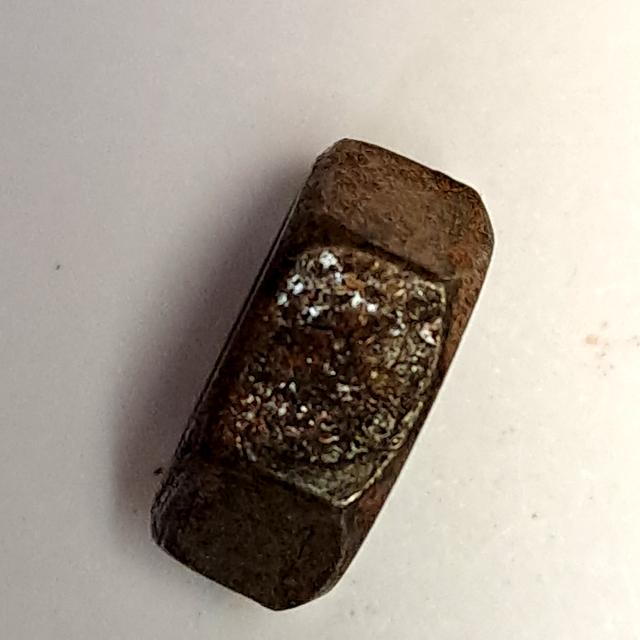Side_Rust: (130, 124, 506, 618)
